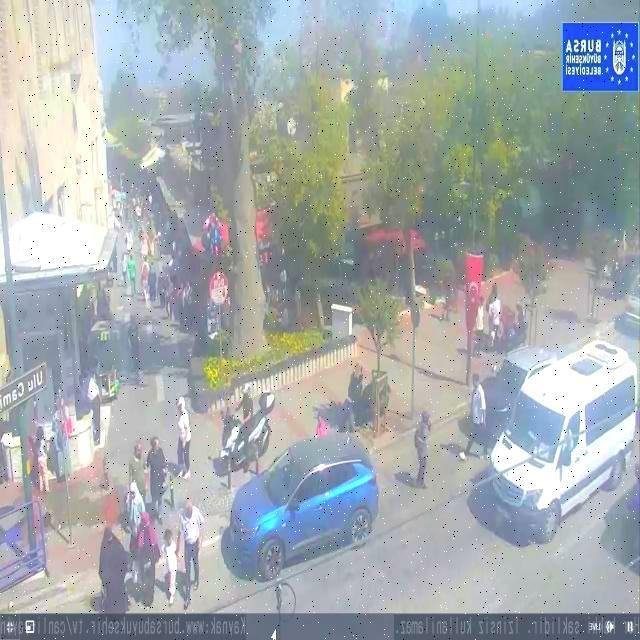Car: (227, 433, 380, 571)
Cycle: (214, 383, 276, 461)
Truck: (489, 340, 639, 538)
